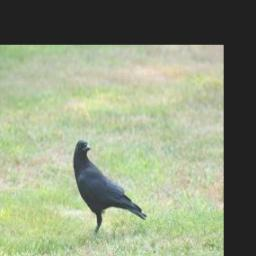Crow: (73, 137, 147, 236)
